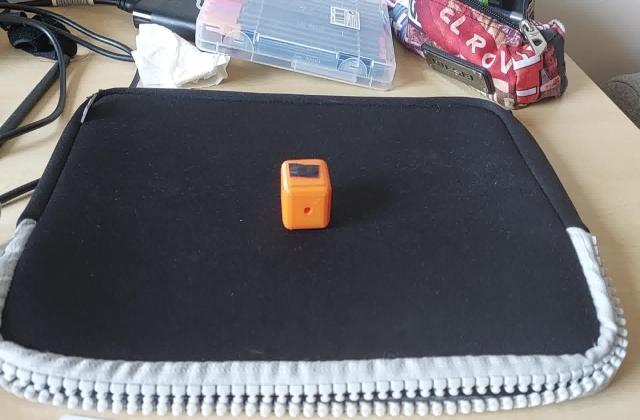black: (286, 160, 324, 180)
cube: (279, 158, 334, 234)
